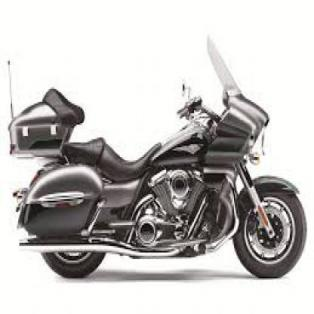Motocicleta: (4, 37, 309, 285)
